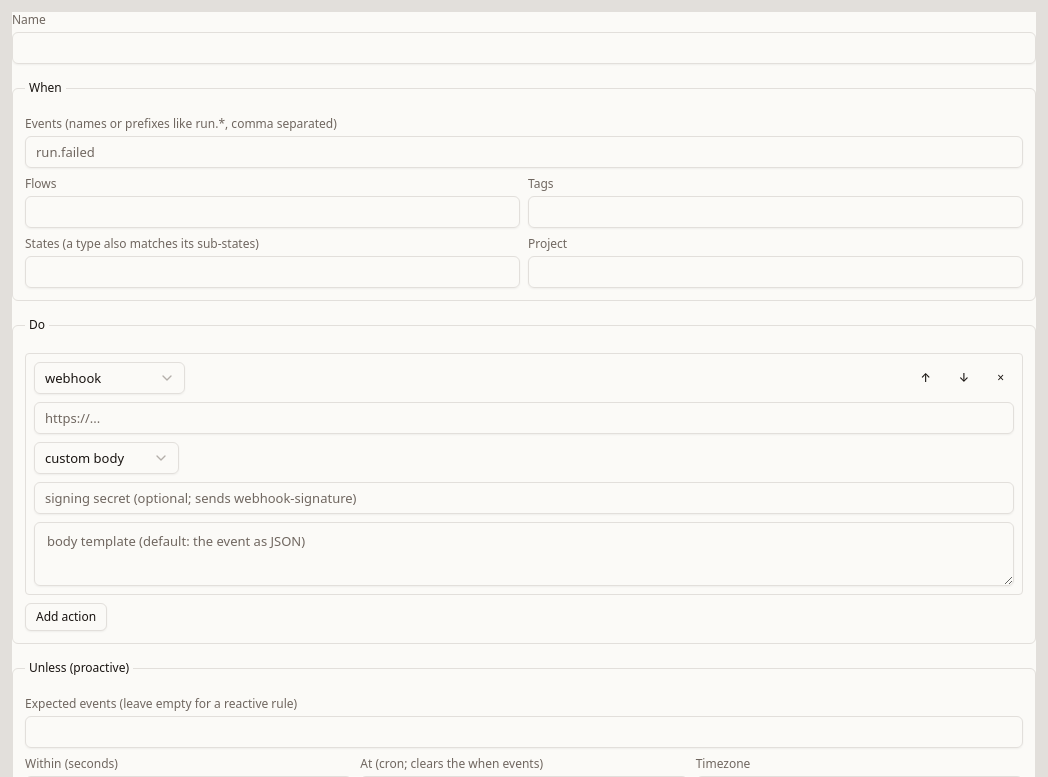
the states field suggests types and sub-states
Clear the field labelled "States (a type also matches its sub-states)" at [272, 272], box [25,256,520,288]
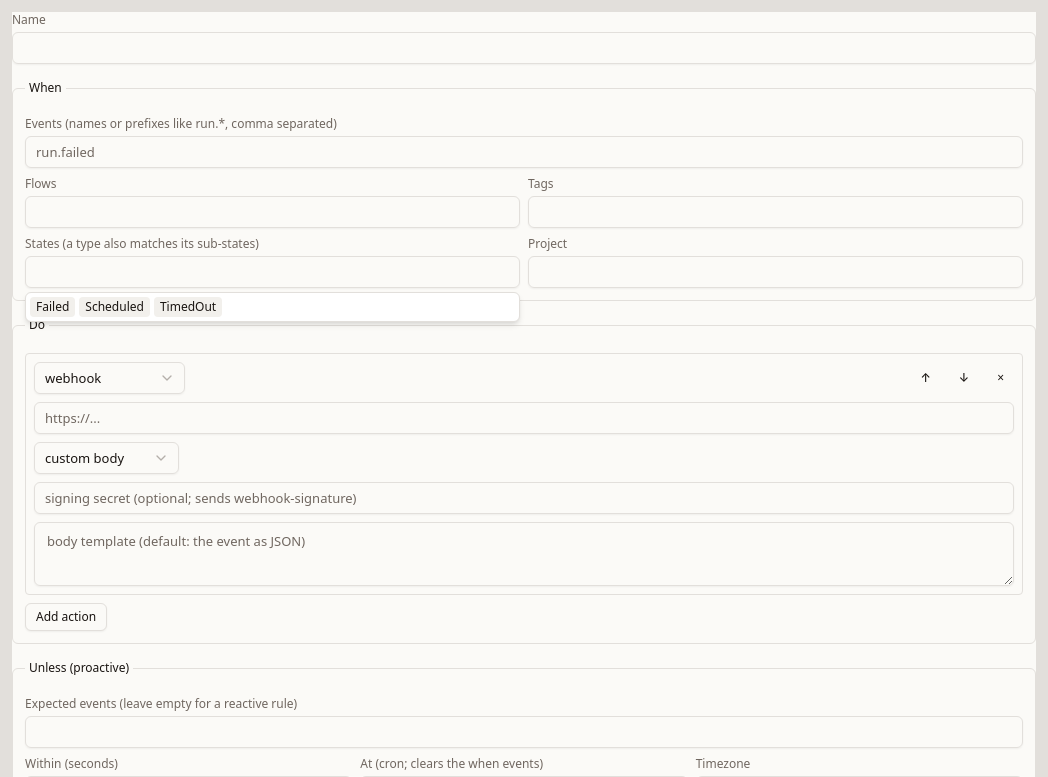
Result: the element with test id "rule-states-suggestions" shows "Failed" at [30,297,75,317]
Result: the element with test id "rule-states-suggestions" shows "TimedOut" at [154,297,222,317]
